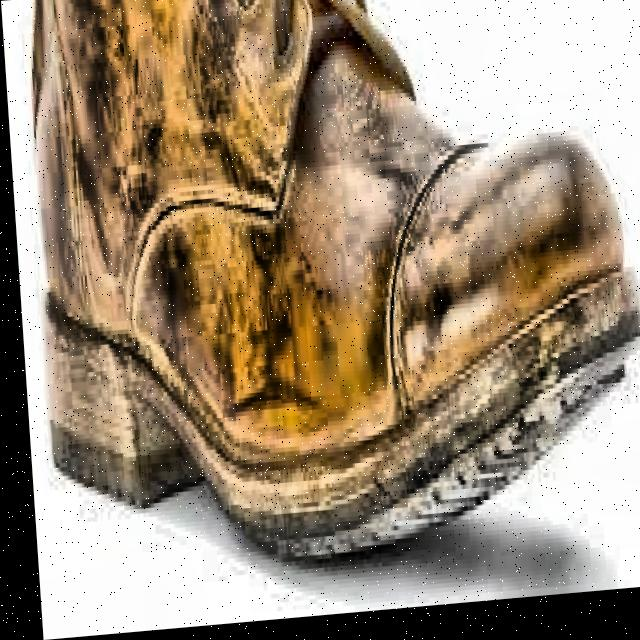shoes: (15, 0, 640, 635)
